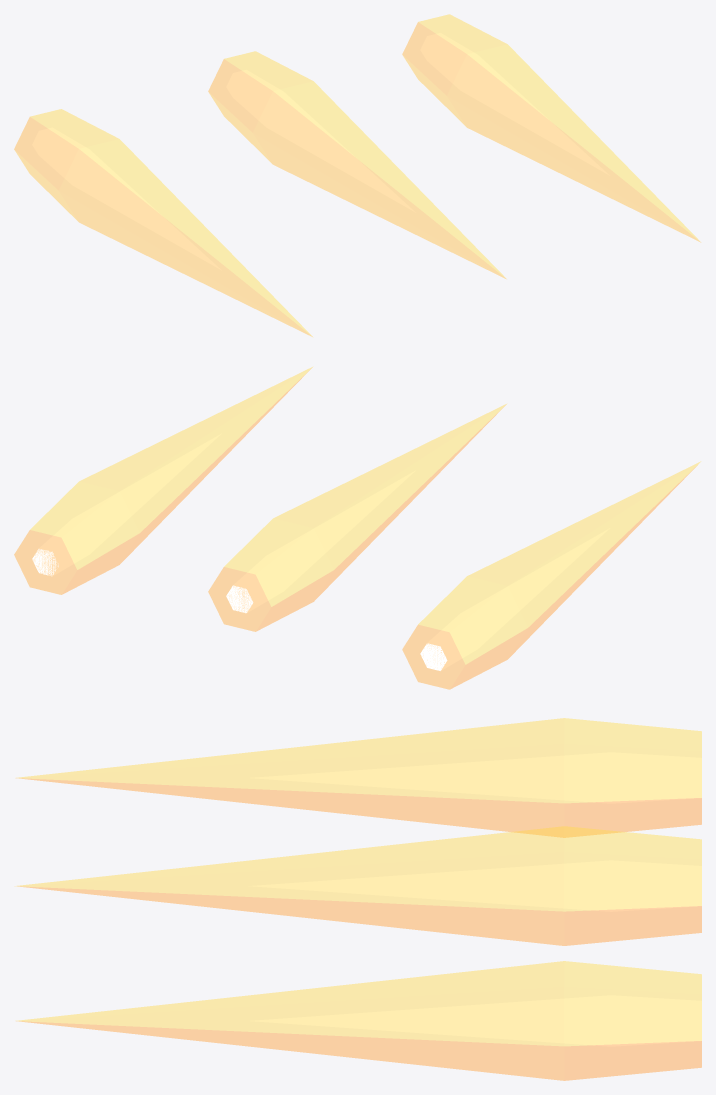
The model's file is space-jet-boost.glb.
The picture shows the model from 3 angles, top to bottom: view 1: azimuth 30°, elevation 25°; view 2: azimuth 150°, elevation 25°; view 3: azimuth 270°, elevation 25°; orthographic projection. The views are drawn at different scales.
Parts seen in each view (by area): view 1: space-jet plume 0; view 2: space-jet plume 0; view 3: space-jet plume 0.
Boxes of the visible parts, box(x1,y1,x2,y2) form: space-jet plume 0: box(14, 14, 700, 336); space-jet plume 0: box(14, 367, 700, 689); space-jet plume 0: box(17, 718, 701, 1080).
Size of the model in its own units: 2.83 by 0.4844 by 2.8.
